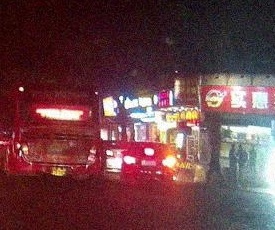L_light: (20, 139, 31, 164), (124, 156, 136, 164)
R_light: (86, 143, 97, 165), (163, 157, 175, 166)
T_light: (51, 90, 70, 95), (144, 147, 154, 155)
night-no: (15, 83, 100, 185)
night-right: (122, 141, 175, 185)
